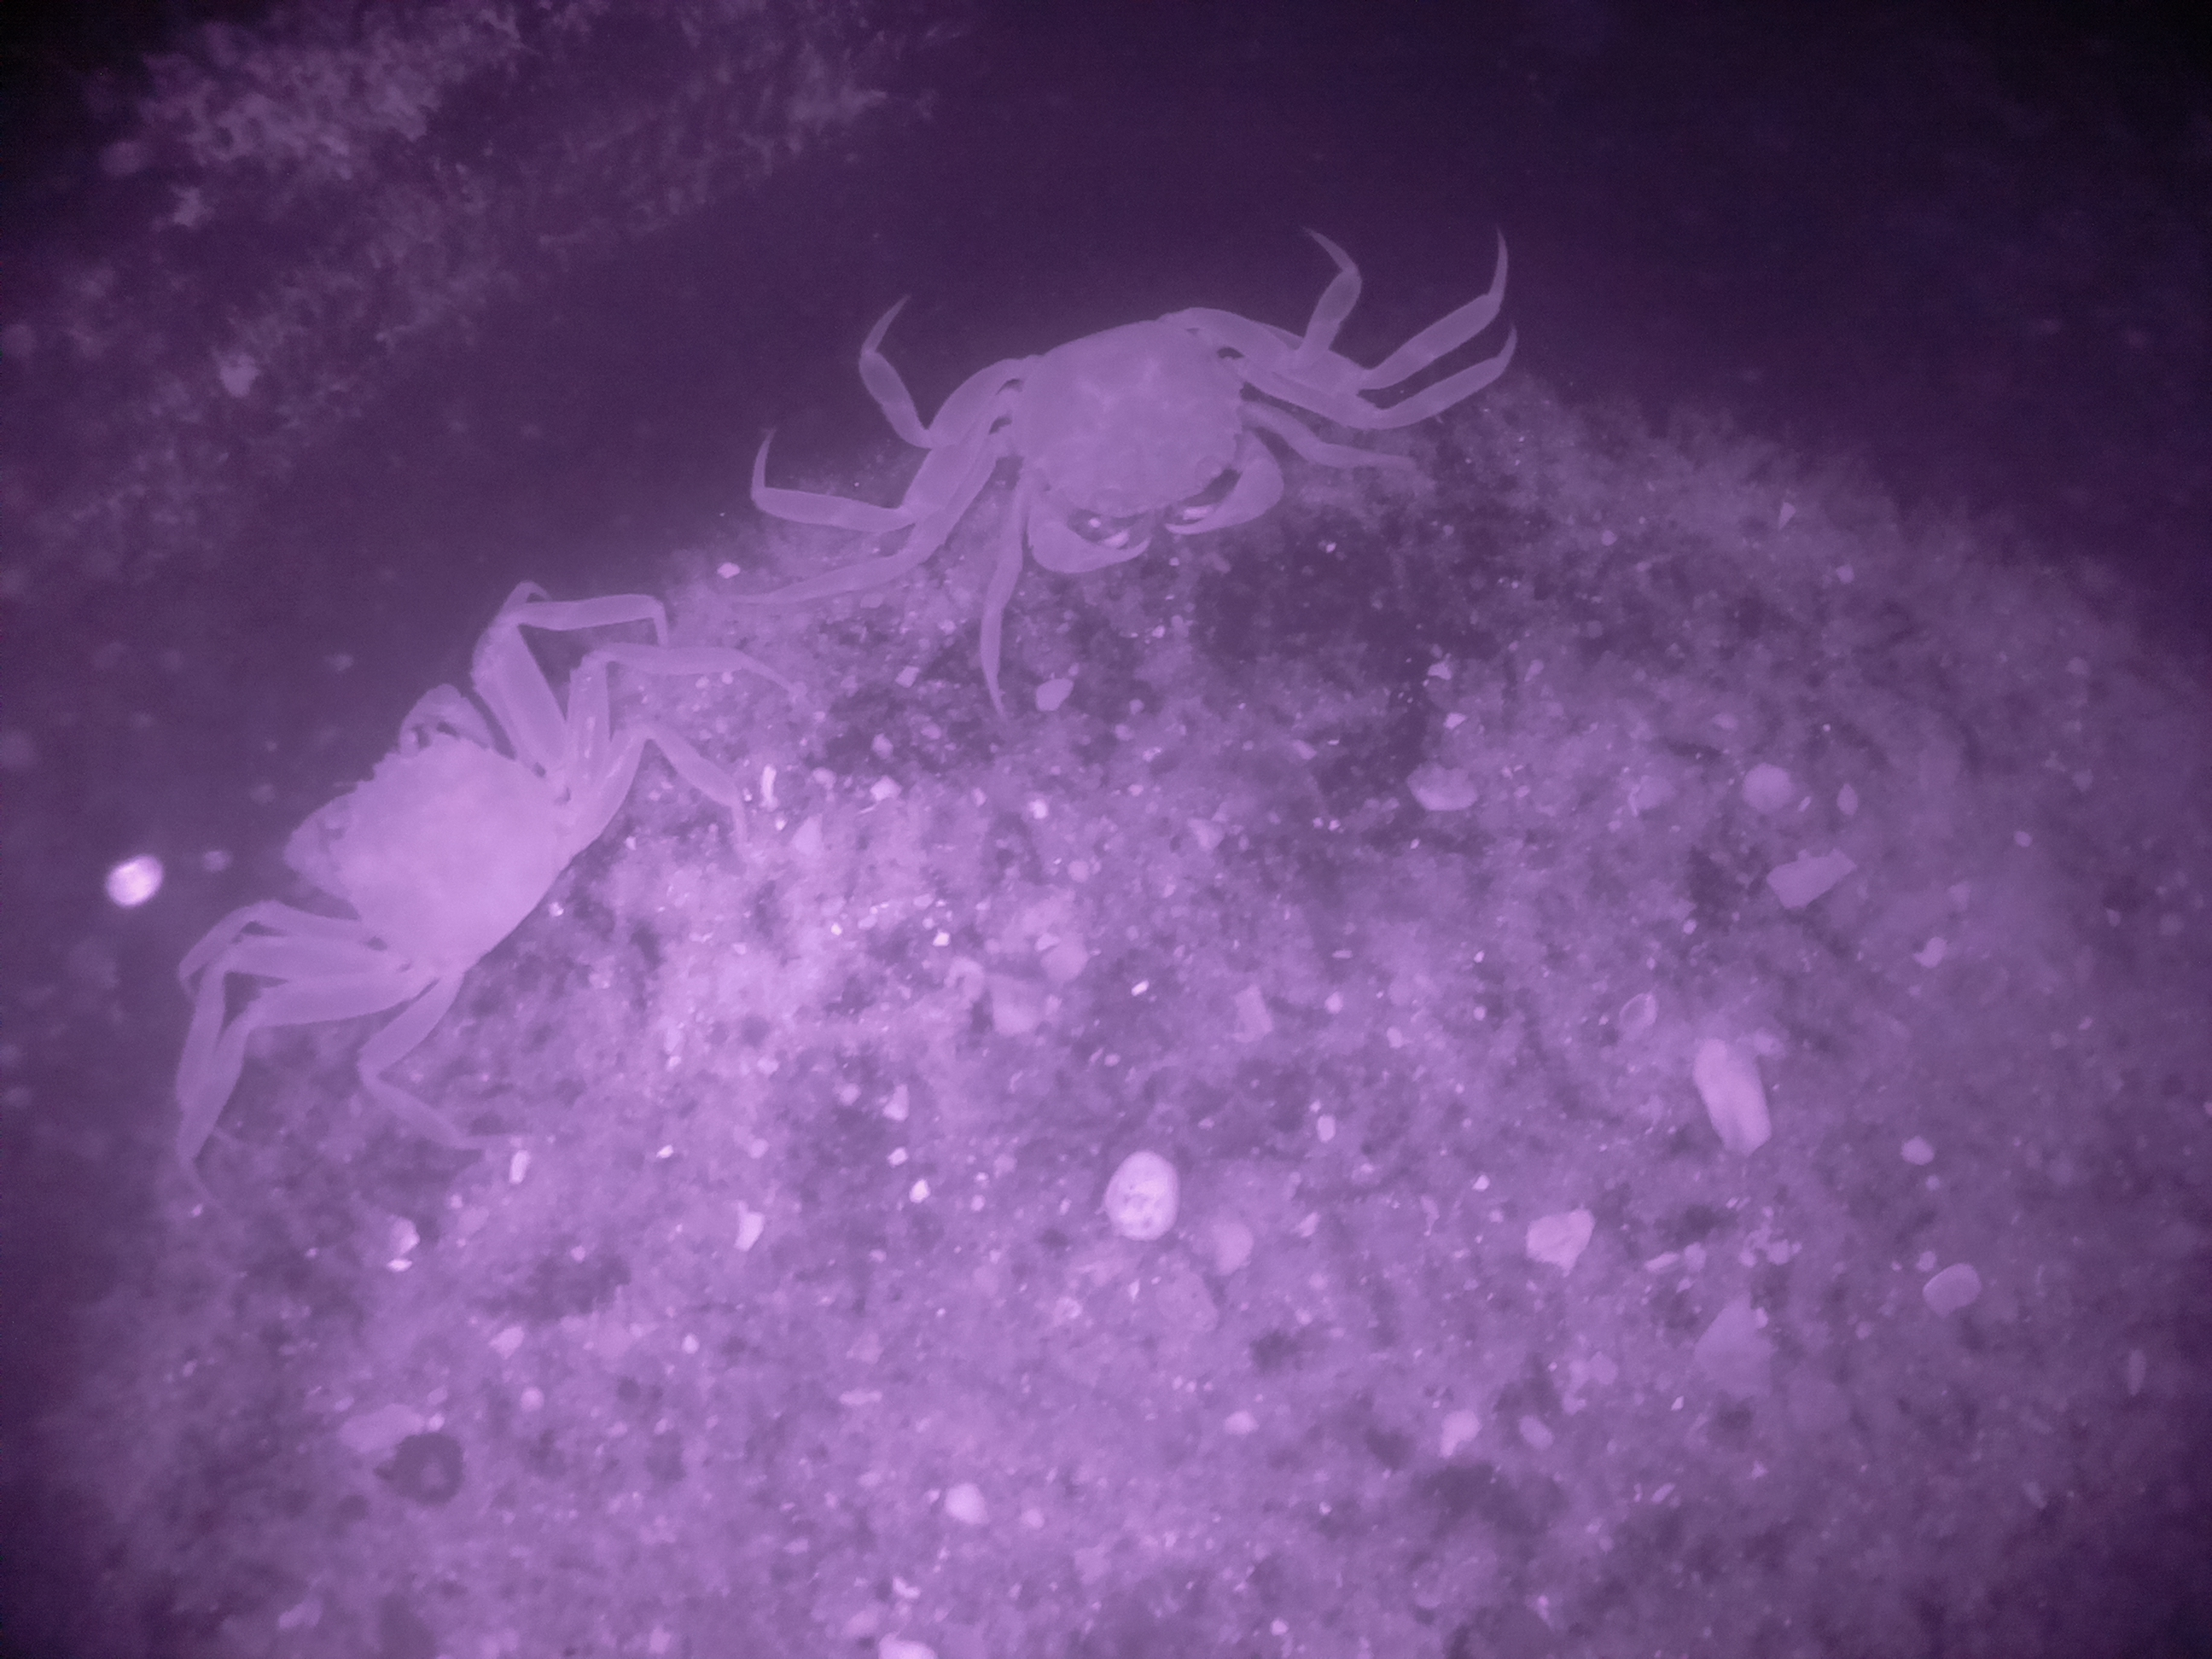Crab: (146, 551, 716, 1098), (810, 249, 1399, 645)
